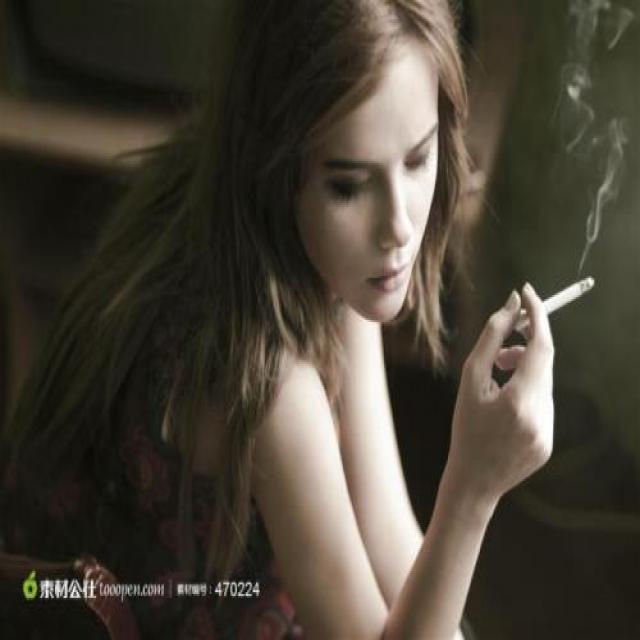smoke: (545, 262, 600, 310)
